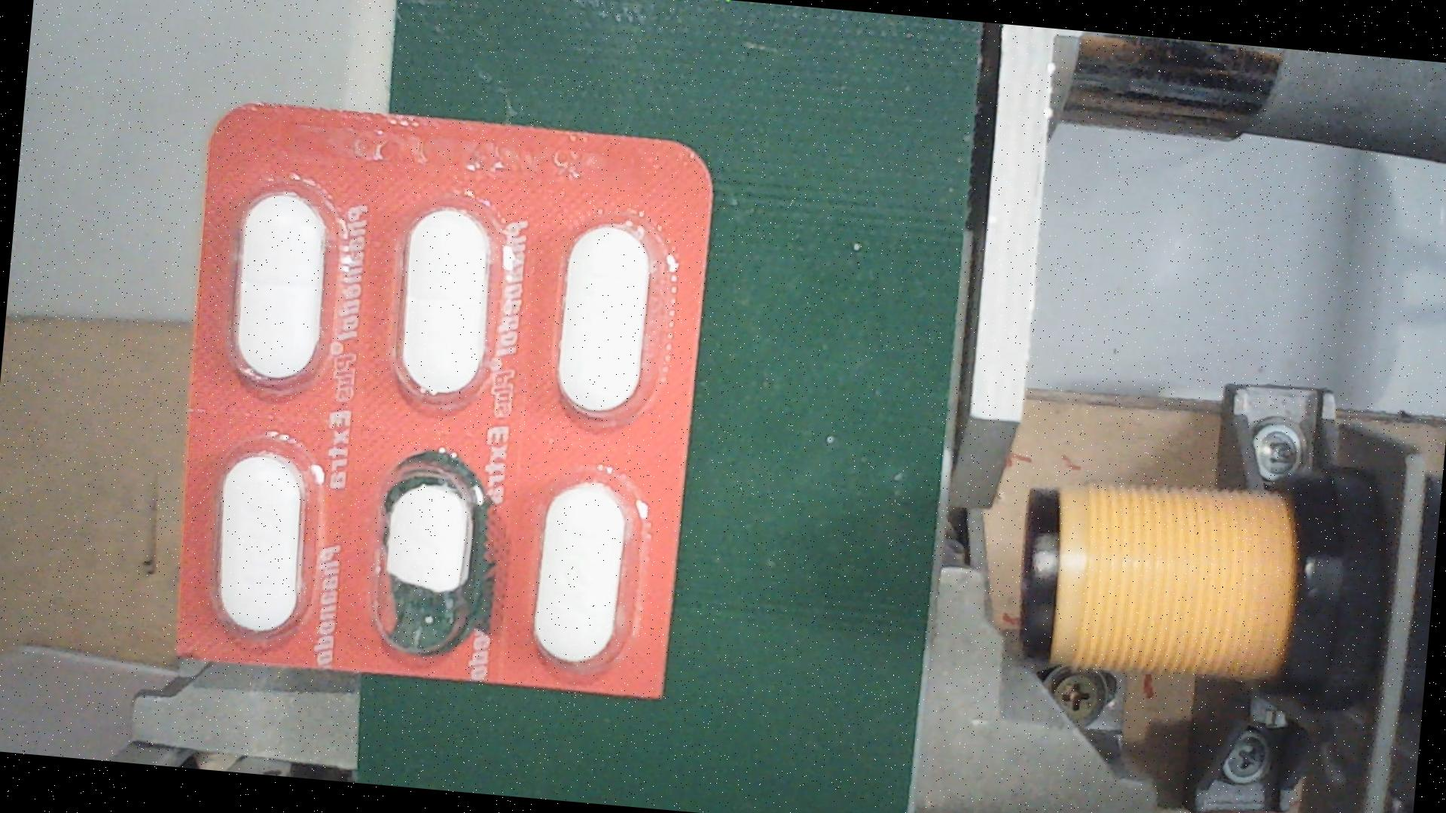Full: (369, 181, 512, 416), (209, 167, 352, 402), (528, 204, 671, 438), (188, 419, 331, 653), (508, 447, 650, 681)
Partial: (353, 429, 495, 663)
